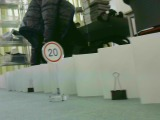speed_20: (39, 40, 63, 63)
